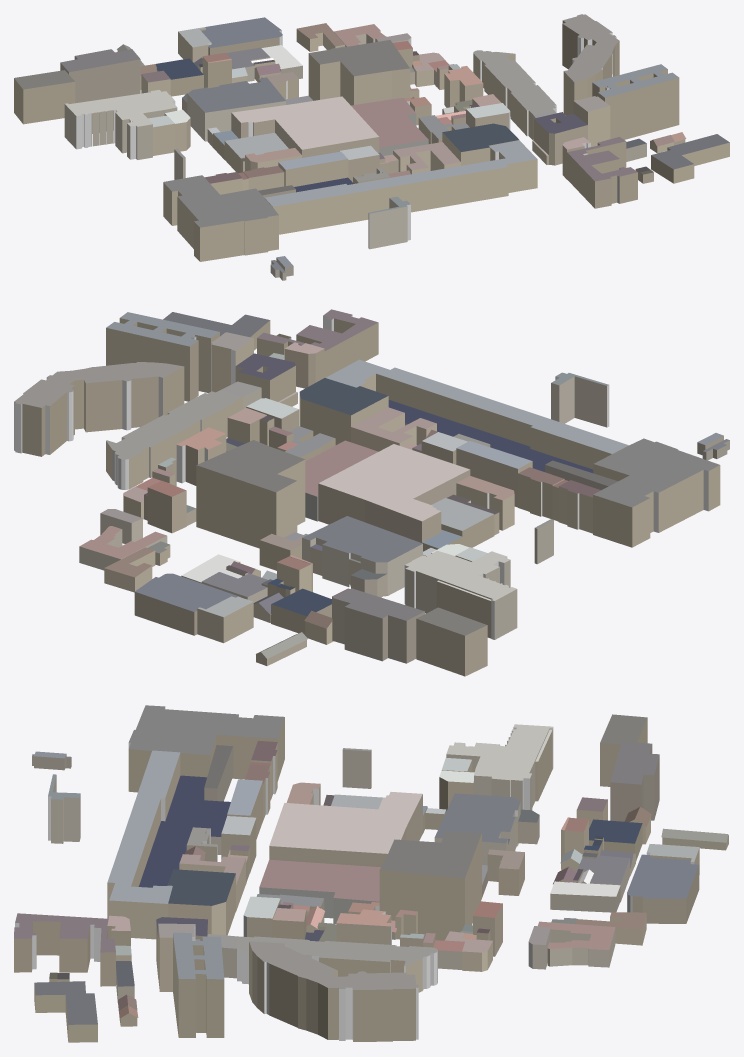
3 renders of one model, top to bottom at view 1: azimuth 30°, elevation 25°; view 2: azimuth 150°, elevation 25°; view 3: azimuth 270°, elevation 25°, orthographic. The views are drawn at different scales.
Visible parts, largest first — view 1: tuile; view 2: tuile; view 3: tuile.
Part boxes in pixels (left/top/right/bottom): tuile: left=14, top=14, right=729, bottom=280; tuile: left=14, top=309, right=729, bottom=676; tuile: left=14, top=705, right=728, bottom=1042.
Bounding box in the file's own units: 274 × 30.62 × 274.
